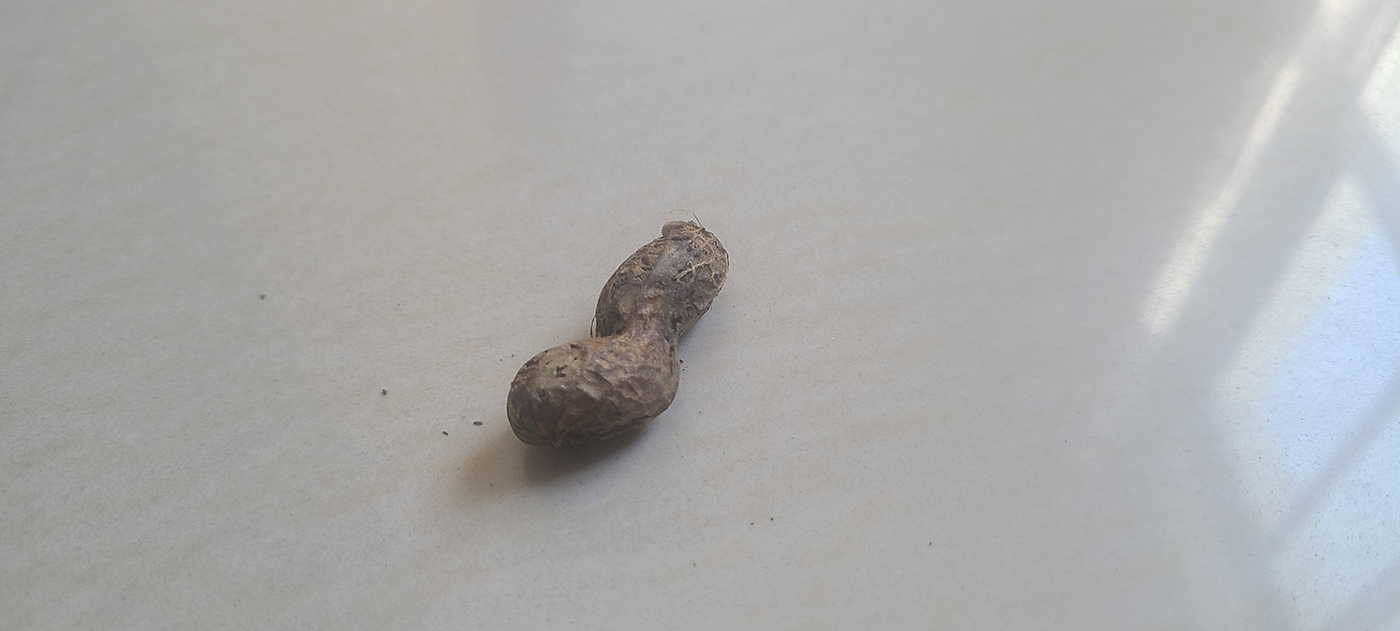l: (503, 219, 734, 446)
